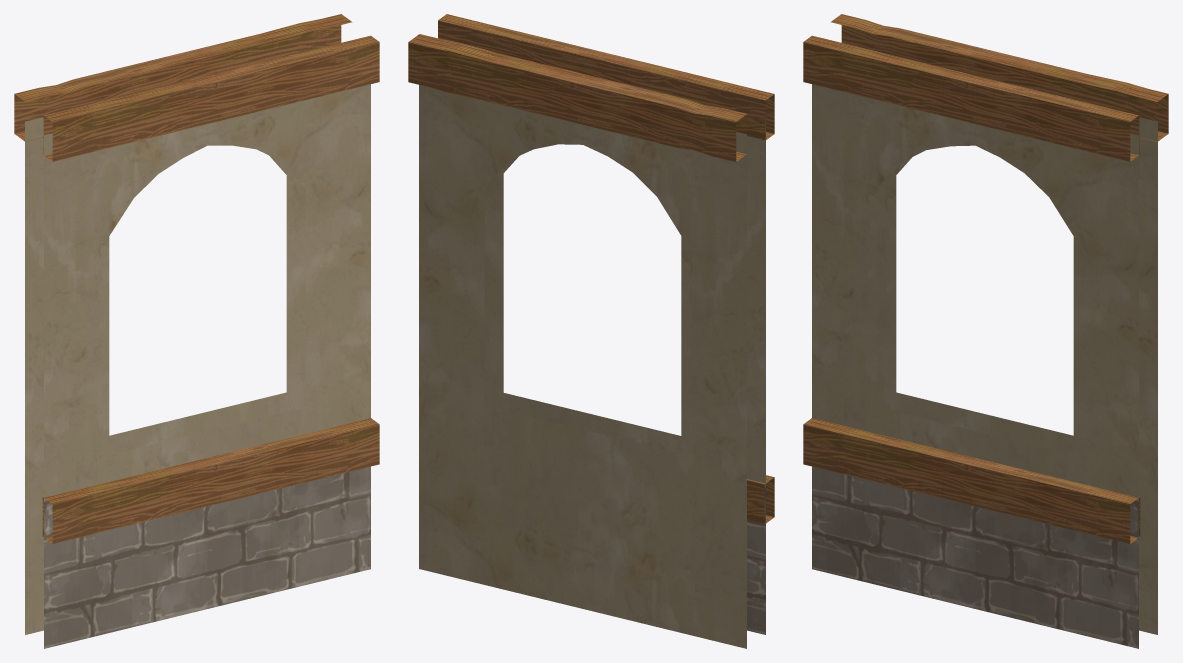
The model's file is Wall_Plaster_Window_Wide_Round.gltf.
3 renders of one model, left to right at view 1: azimuth 30°, elevation 25°; view 2: azimuth 150°, elevation 25°; view 3: azimuth 330°, elevation 25°, orthographic.
Visible parts, largest first — view 1: Wall_Plaster_Window_Wide_Round; view 2: Wall_Plaster_Window_Wide_Round; view 3: Wall_Plaster_Window_Wide_Round.
Part boxes in pixels (x1,y1,x2,y2): Wall_Plaster_Window_Wide_Round: [14, 14, 379, 648]; Wall_Plaster_Window_Wide_Round: [408, 14, 774, 648]; Wall_Plaster_Window_Wide_Round: [803, 14, 1168, 648].
Bounding box in the file's own units: 2 × 3.12 × 0.4065.
Materials: 3 (3 with a texture image).
